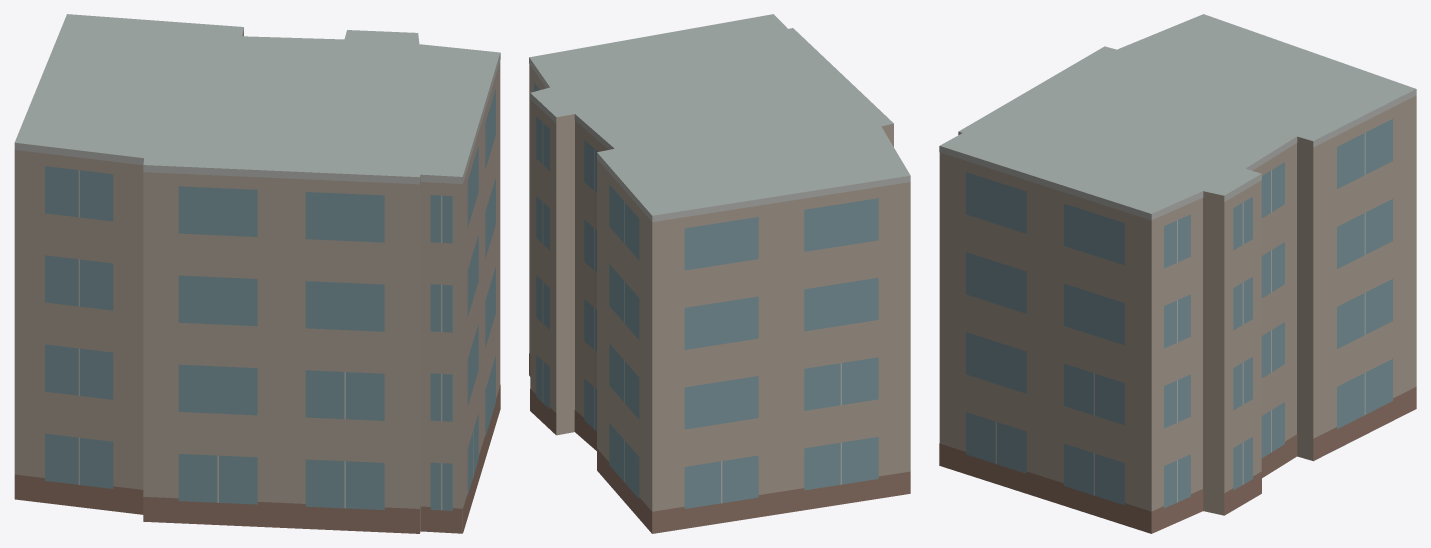
File: survey-upis-32800449.glb
3 renders of one model, left to right at view 1: azimuth 30°, elevation 25°; view 2: azimuth 150°, elevation 25°; view 3: azimuth 270°, elevation 25°, orthographic. The views are drawn at different scales.
Parts seen in each view (by area): view 1: survey-upis-32800449.tmp; view 2: survey-upis-32800449.tmp; view 3: survey-upis-32800449.tmp.
Part boxes in pixels (x1=…): survey-upis-32800449.tmp: x1=14, y1=14, x2=500, y2=533; survey-upis-32800449.tmp: x1=529, y1=14, x2=910, y2=533; survey-upis-32800449.tmp: x1=939, y1=14, x2=1416, y2=533.
Size of the model in its own units: 16.36 by 12.2 by 16.49.
